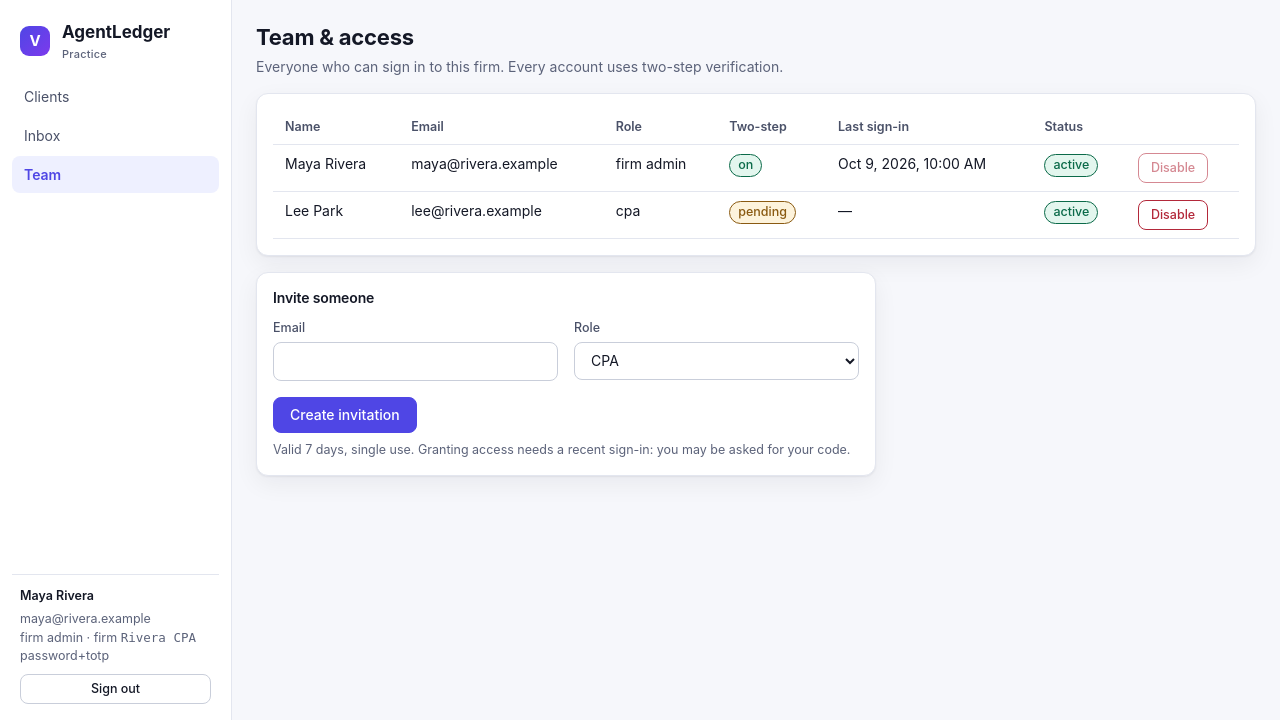
Test: step-up › cancelling the dialog surfaces the refusal and does not retry
expect the text "Lee Park" is shown: met, box [273,192,399,239]
Type "new@rivera.example" into the field labelled "Email" at (416, 361), box [273,342,558,380]
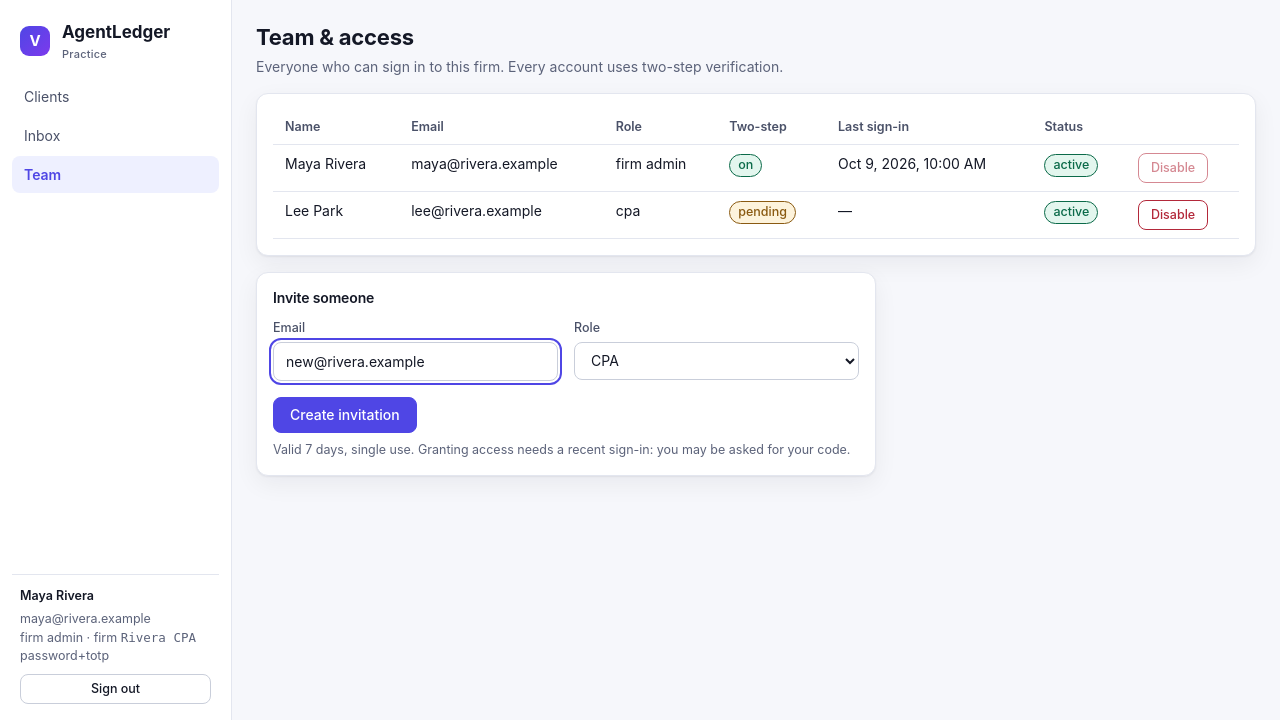
Click the button "Create invitation" at (345, 414), box [273,396,417,432]
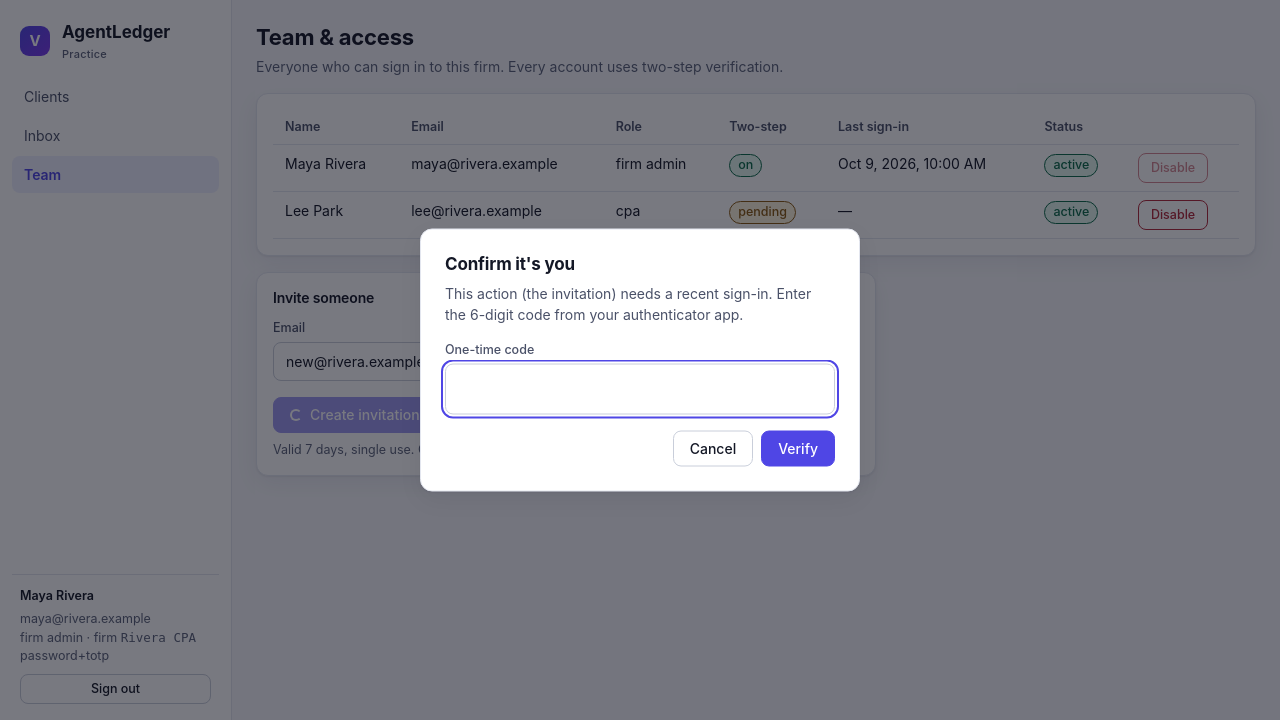
expect the dialog "Confirm it's you" is shown: met, box [420,228,860,492]
Click the button "Cancel" at (713, 448), box [673,430,753,466]
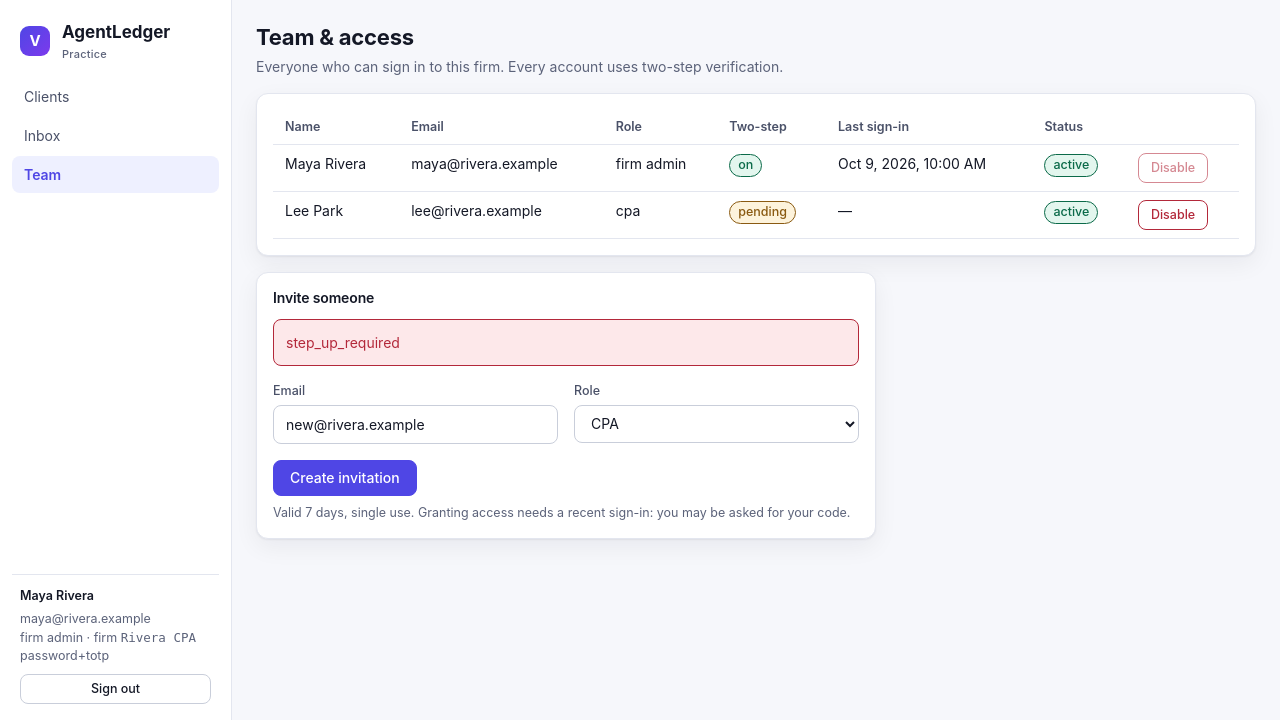
expect the message "step_up_required" is shown: met, box [273,319,859,366]
